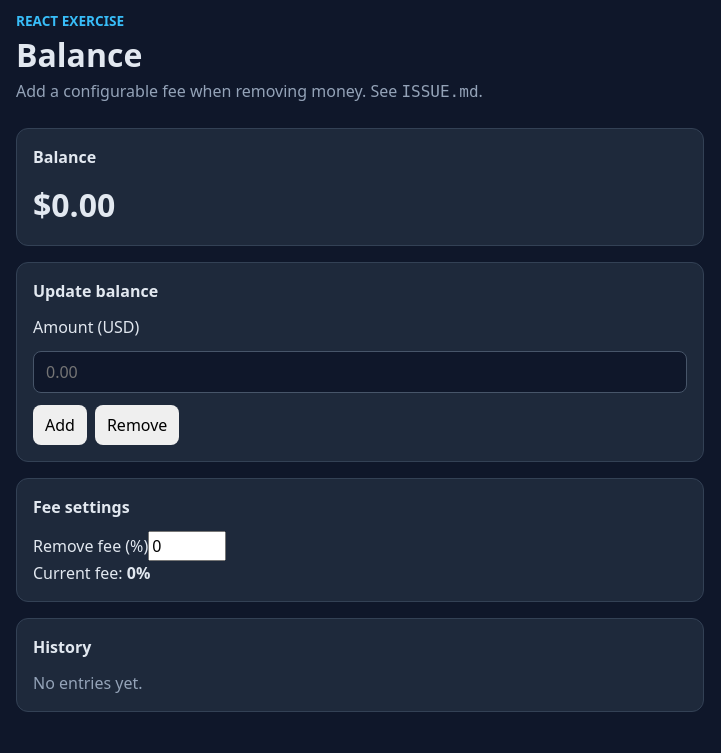
Test: App › rejects fee above 5%
Replace the text in the number field labelled "Remove fee (%)" with "6". click: x=187, y=546
box: [148,531,226,561]
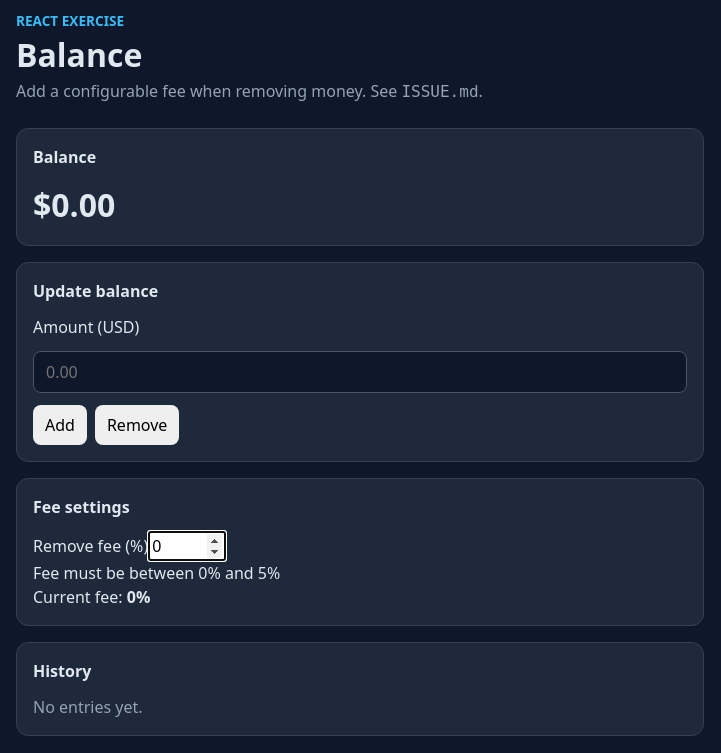
Expected: the text "Current fee:" shows "0%", [33,586,150,608]
Expected: the message reads "Fee must be between 0% and 5%", [33,562,280,584]
